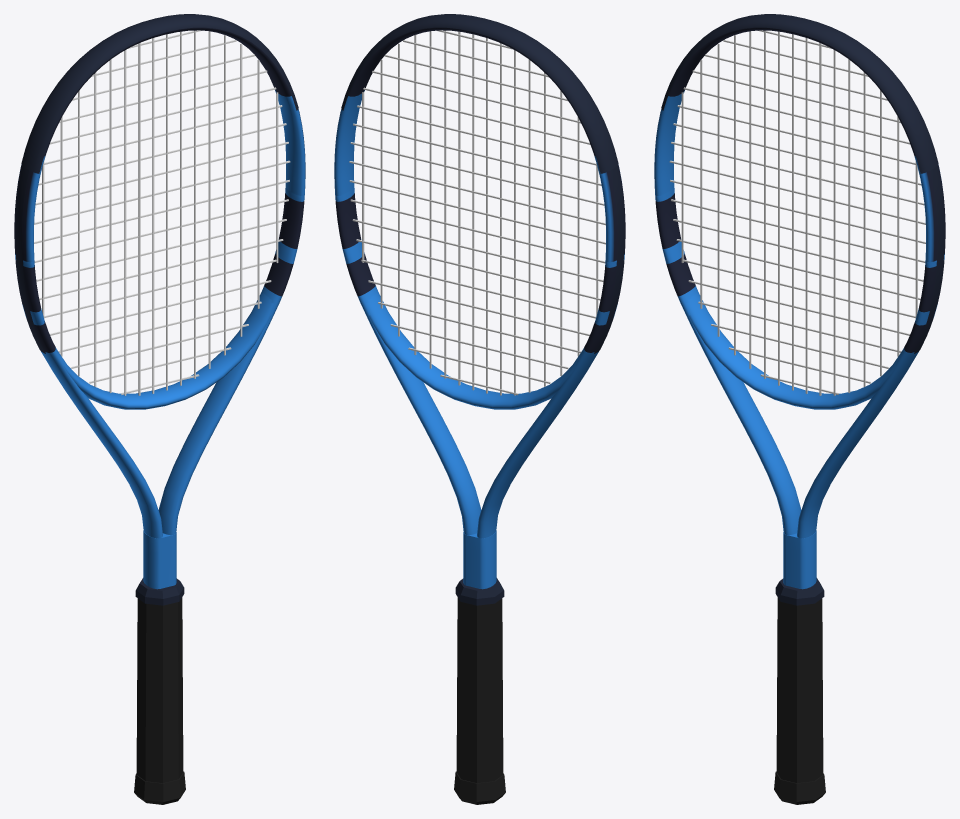
The model's file is babolat-pure-drive-plus-2021.glb.
3 renders of one model, left to right at view 1: azimuth 30°, elevation 25°; view 2: azimuth 150°, elevation 25°; view 3: azimuth 330°, elevation 25°, orthographic.
Visible parts, largest first — view 1: frame, strings_mains, strings_crosses, grip, bumper, grommets, butt_cap, collar; view 2: frame, strings_mains, strings_crosses, grip, bumper, grommets, butt_cap, collar; view 3: frame, strings_mains, strings_crosses, grip, bumper, grommets, butt_cap, collar.
Part boxes in pixels (box(x1,y1,x2,y2)): frame: box(14, 27, 305, 589); strings_mains: box(42, 30, 278, 395); strings_crosses: box(34, 30, 290, 394); grip: box(136, 597, 183, 783); bumper: box(21, 14, 298, 173); grommets: box(15, 165, 45, 353); butt_cap: box(134, 771, 185, 804); collar: box(135, 578, 184, 605); frame: box(334, 27, 625, 589); strings_mains: box(362, 30, 598, 395); strings_crosses: box(349, 30, 605, 395); grip: box(456, 597, 503, 783); bumper: box(341, 14, 618, 173); grommets: box(594, 165, 624, 353); butt_cap: box(454, 771, 505, 804); collar: box(455, 578, 504, 605); frame: box(654, 27, 945, 589); strings_mains: box(681, 30, 917, 395); strings_crosses: box(669, 30, 925, 394); grip: box(776, 597, 823, 783); bumper: box(661, 14, 938, 173); grommets: box(914, 165, 944, 353); butt_cap: box(774, 771, 825, 804); collar: box(775, 578, 824, 605).
Bounding box in the file's own units: 0.2678 × 0.6988 × 0.0396.
